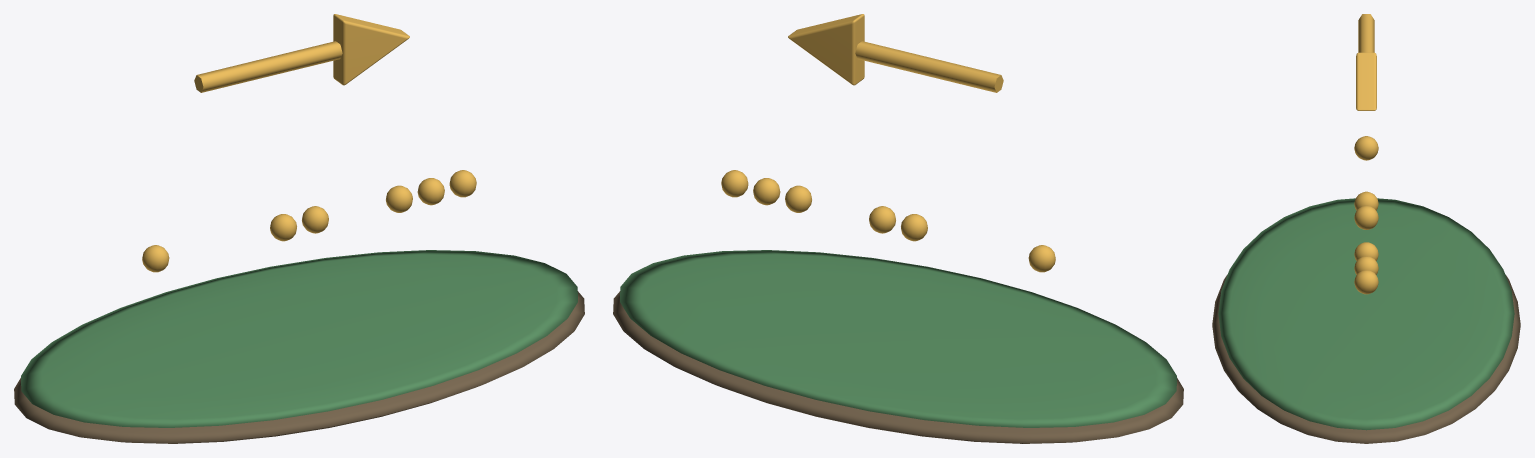
Rendered from ordered-steps.glb.
3 renders of one model, left to right at view 1: azimuth 30°, elevation 25°; view 2: azimuth 150°, elevation 25°; view 3: azimuth 270°, elevation 25°, orthographic. The views are drawn at different scales.
Parts seen in each view (by area): view 1: ordered-steps_surface_01, ordered-steps_surface_00, ordered-steps_surface_02; view 2: ordered-steps_surface_01, ordered-steps_surface_00, ordered-steps_surface_02; view 3: ordered-steps_surface_01, ordered-steps_surface_00, ordered-steps_surface_02.
Boxes of the visible parts, box(x1,y1,x2,y2) form: ordered-steps_surface_01: box(21, 250, 577, 427); ordered-steps_surface_00: box(14, 291, 584, 443); ordered-steps_surface_02: box(142, 14, 476, 272); ordered-steps_surface_01: box(620, 250, 1176, 427); ordered-steps_surface_00: box(613, 291, 1183, 443); ordered-steps_surface_02: box(721, 14, 1055, 272); ordered-steps_surface_01: box(1218, 198, 1514, 430); ordered-steps_surface_00: box(1212, 274, 1520, 443); ordered-steps_surface_02: box(1354, 14, 1378, 294).
Size of the model in its own units: 4.56 by 2.72 by 2.5.
